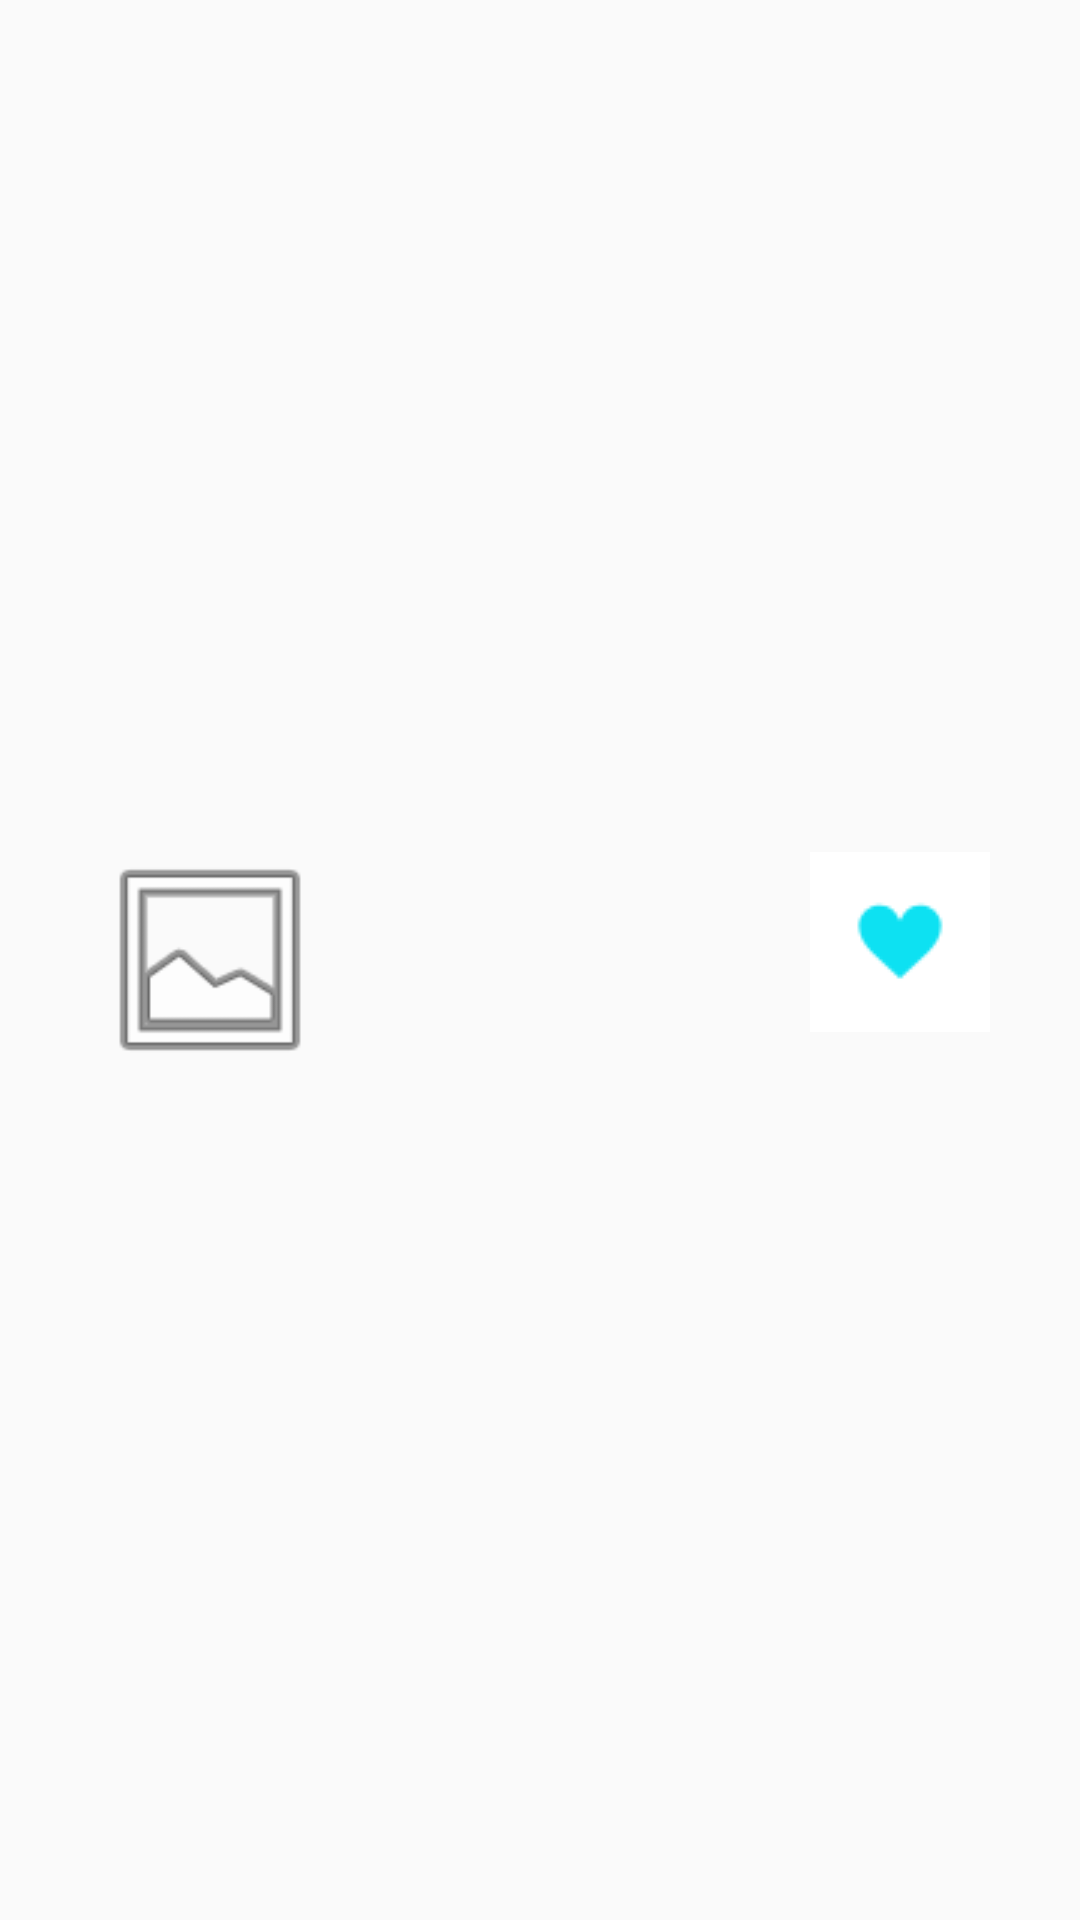

Where to tap for icons on this 1080x1920 app screen, as (x,y):
gallery: (210,960)
like: (900,941)
